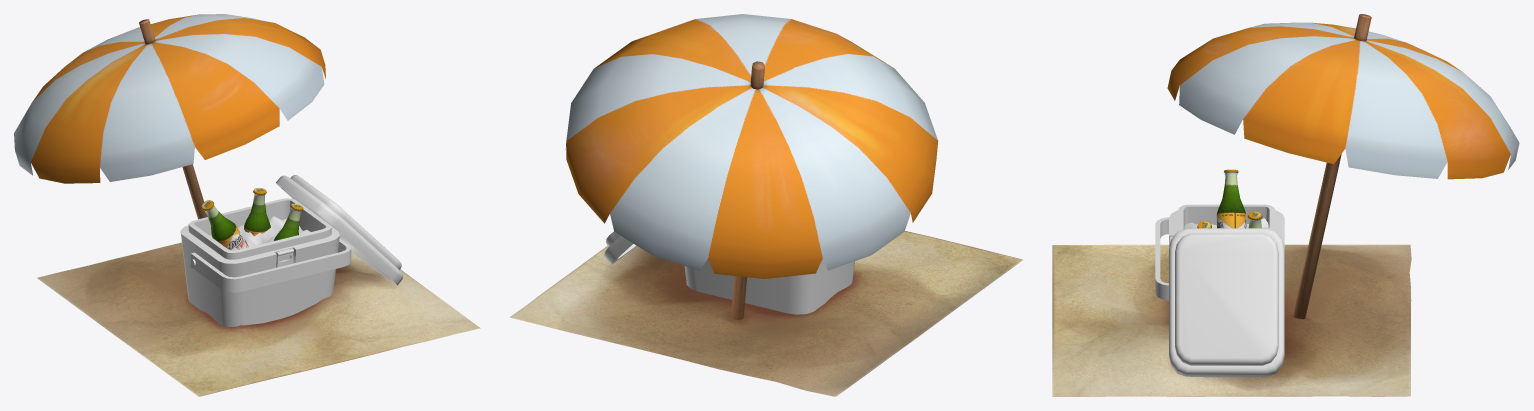
File: cooler-bag-umbrella.fbx
The picture shows the model from 3 angles, left to right: view 1: azimuth 30°, elevation 25°; view 2: azimuth 150°, elevation 25°; view 3: azimuth 270°, elevation 25°; orthographic projection. The views are drawn at different scales.
Visible parts, largest first — view 1: Circle.001, Plane.004, Plane, Plane.001, Circle, Circle.003, Plane.002, Circle.002; view 2: Circle.001, Plane.004, Plane; view 3: Circle.001, Plane.004, Plane, Circle, Plane.001.
Part boxes in pixels (x1,y1,x2,y2): Circle.001: (14,14,325,219); Plane.004: (37,242,480,396); Plane: (180,175,403,327); Plane.001: (190,238,351,292); Circle: (201,200,248,250); Circle.003: (244,187,270,236); Plane.002: (209,216,310,250); Circle.002: (274,203,303,240); Circle.001: (565,14,938,320); Plane.004: (509,231,1023,396); Plane: (604,231,854,314); Circle.001: (1167,14,1519,318); Plane.004: (1052,244,1411,396); Plane: (1169,204,1284,377); Circle: (1216,169,1246,228); Plane.001: (1155,217,1168,300).
Bounding box in the file's own units: 225 × 180 × 261.
Materials: 4 (3 with a texture image).
